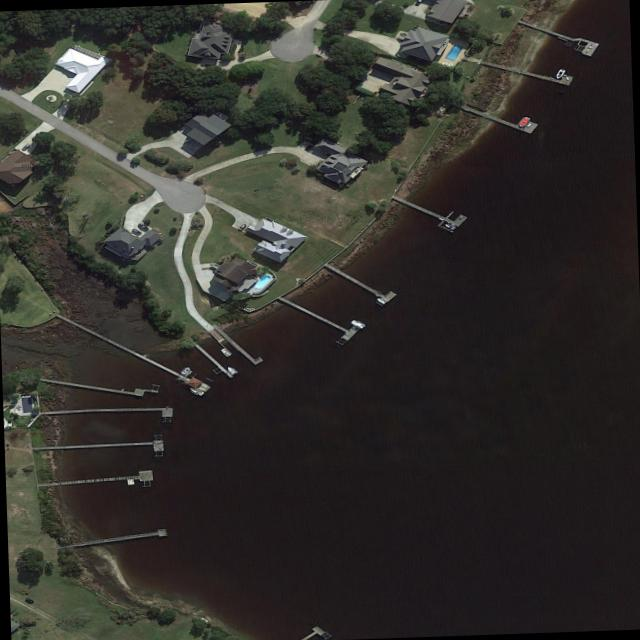ship: (187, 385, 206, 396), (350, 319, 366, 329), (518, 116, 530, 127), (555, 68, 567, 79), (225, 365, 238, 375), (180, 366, 192, 375), (375, 297, 388, 305), (220, 347, 231, 356)
small-vehicle: (236, 223, 247, 231), (21, 143, 32, 151), (304, 142, 314, 150), (131, 228, 141, 235), (138, 223, 148, 230), (415, 0, 423, 5)
